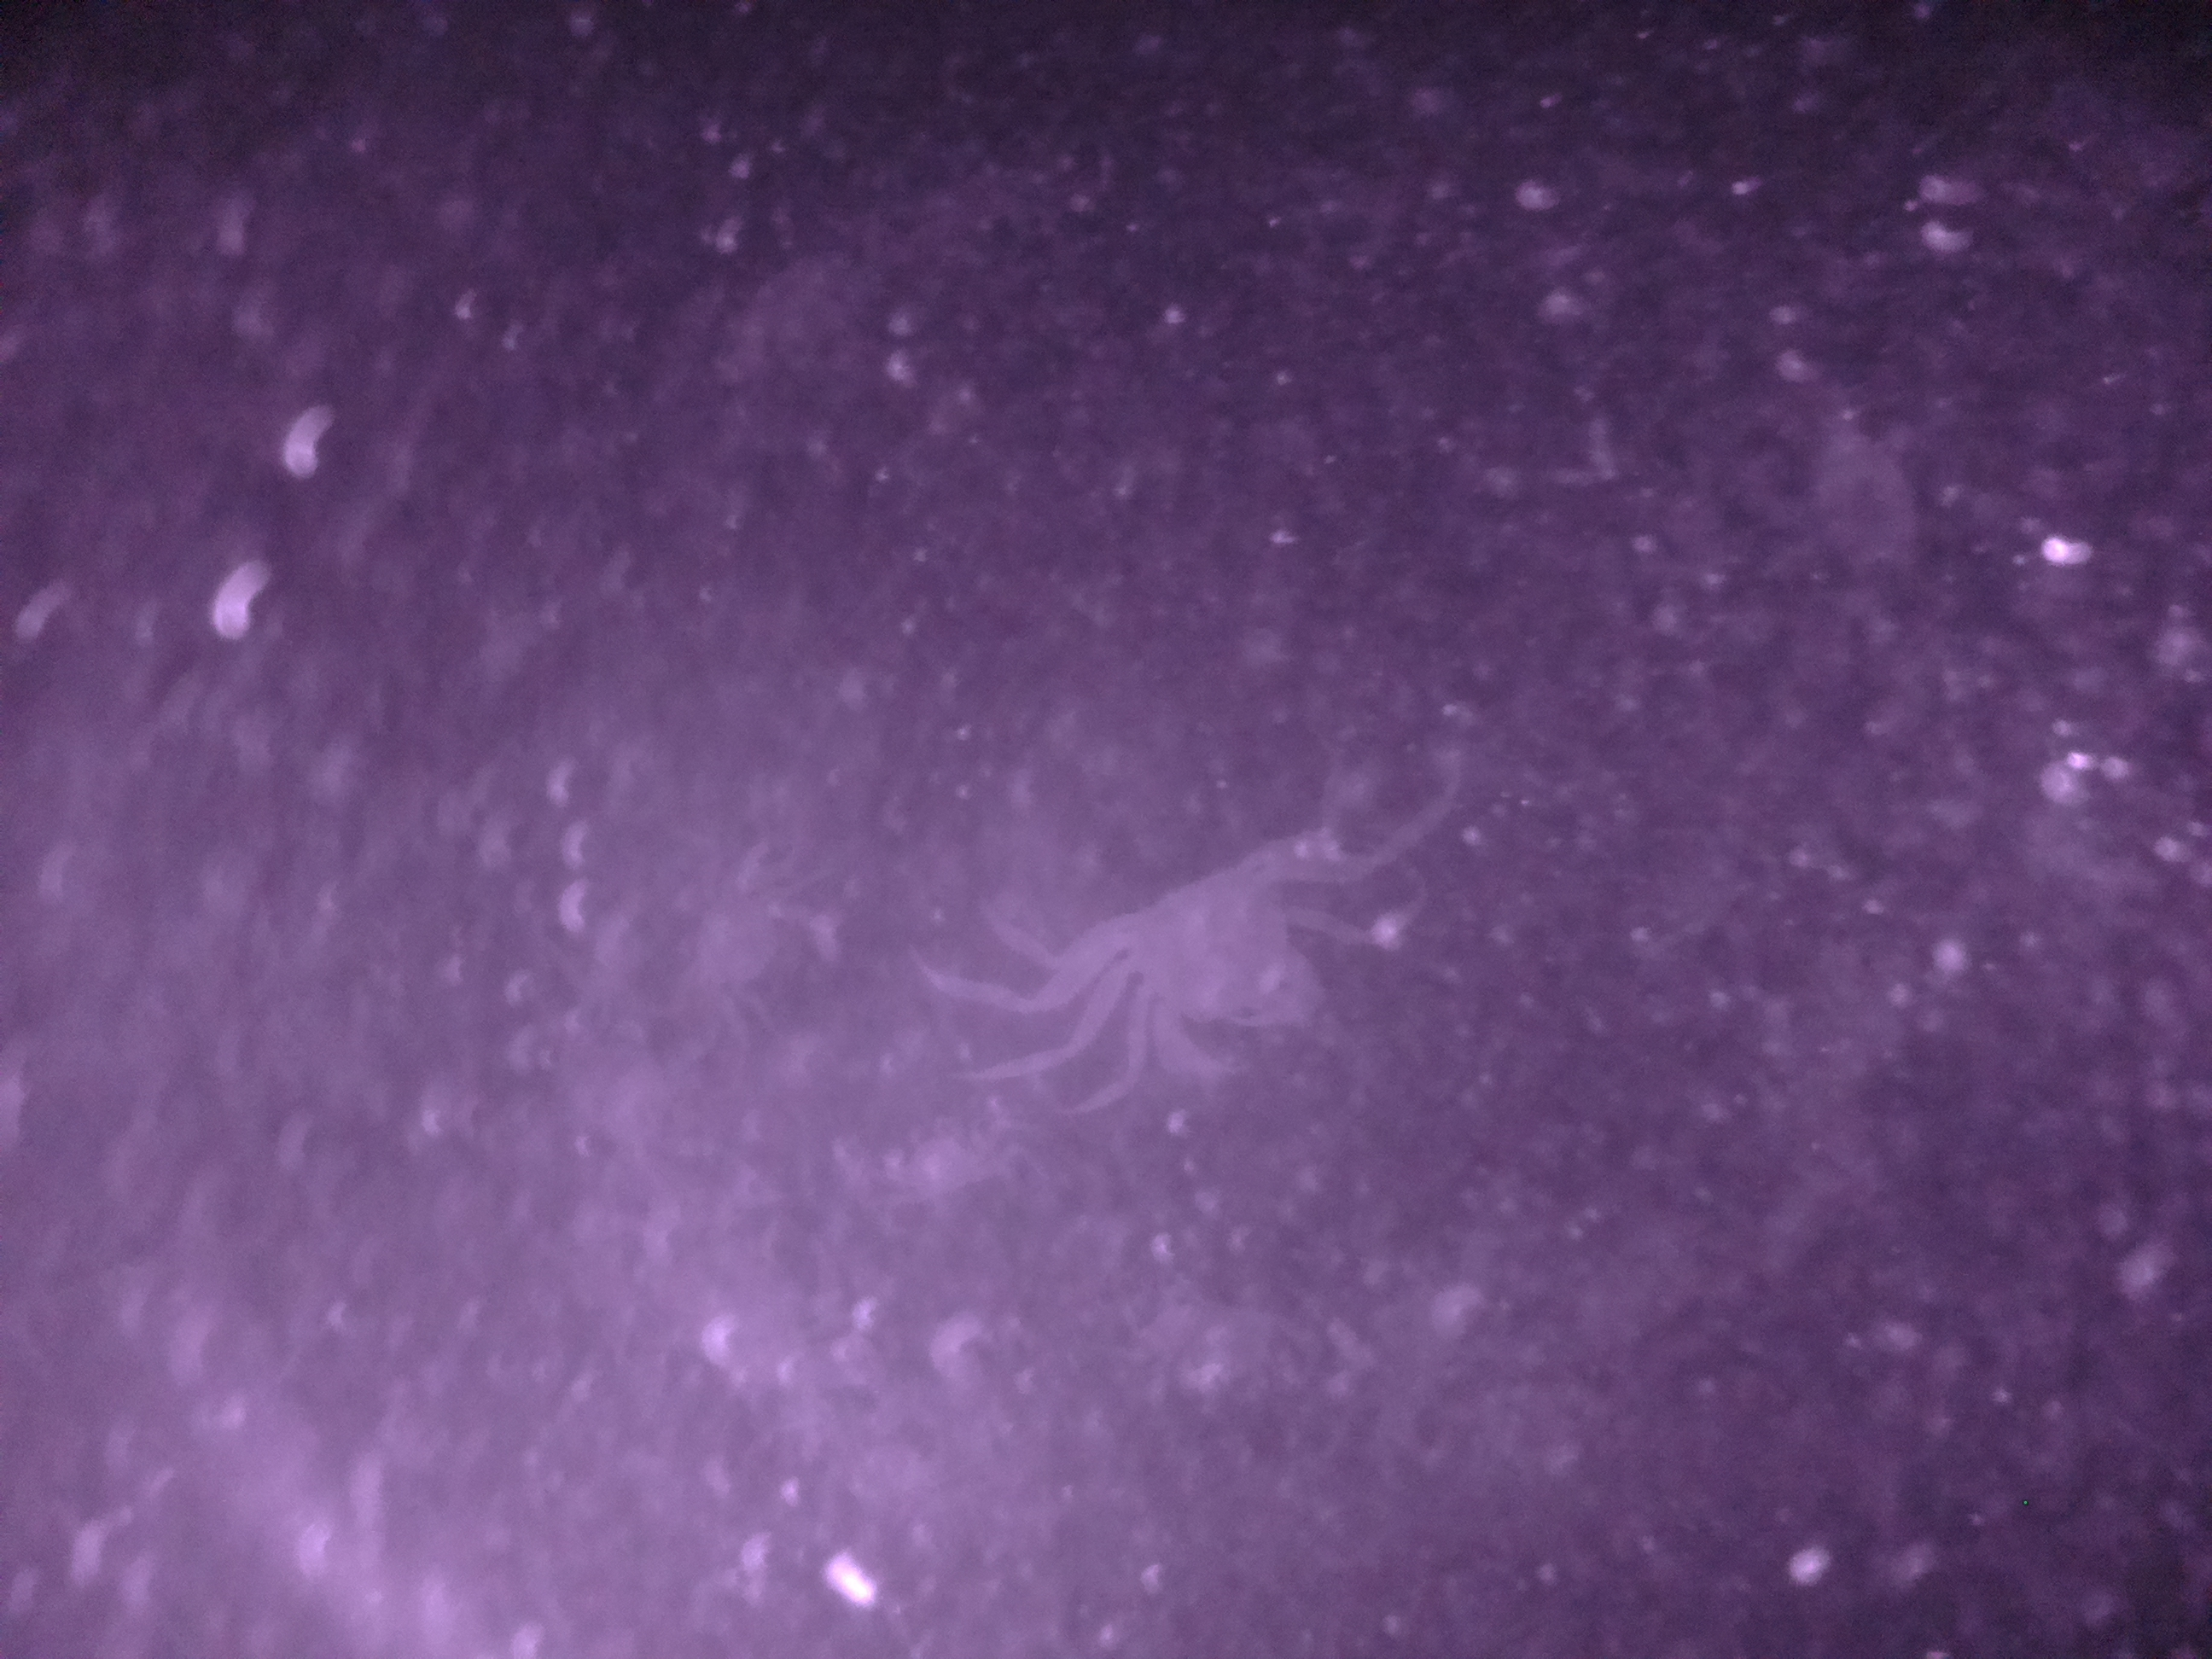Crab: (1038, 824, 1385, 1101)
